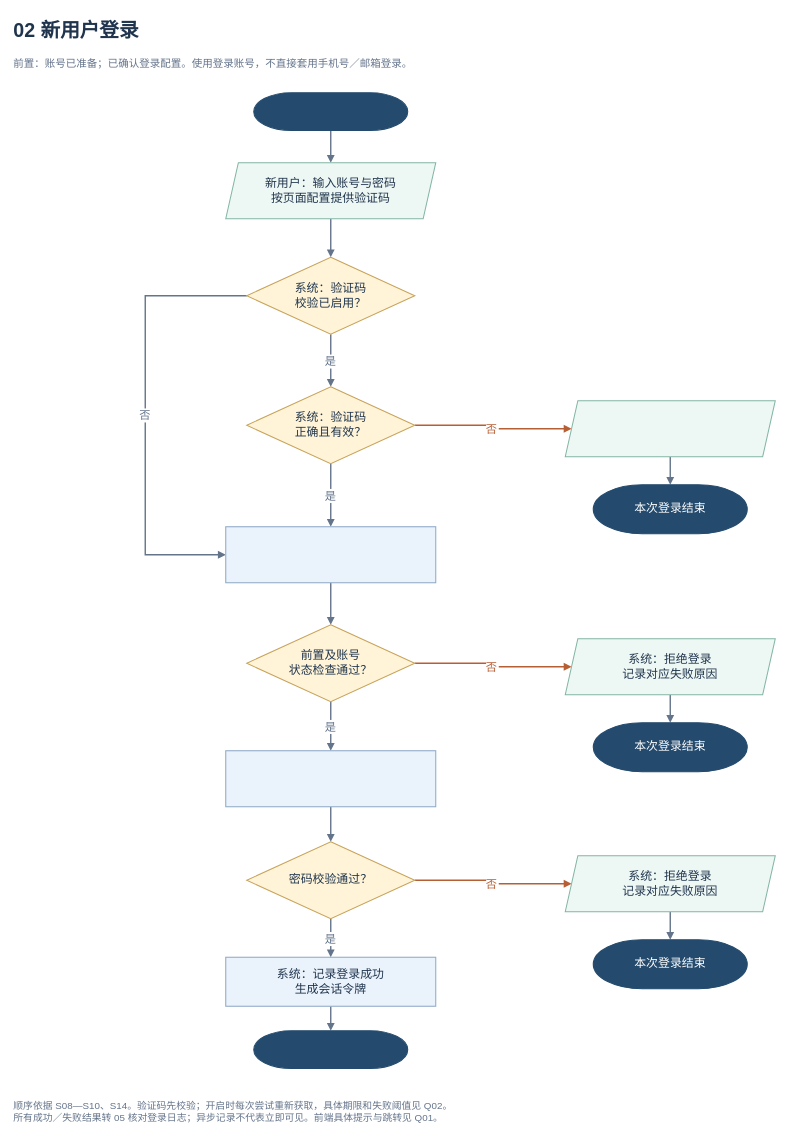
Some shapes in this 801 by 1148 pixel diagram are drawn without their labels. Each missing label, with the centre of its shape:
"开始" belongs at pixel 330 111.
"登录成功，转 03" belongs at pixel 330 1049.
"系统：拒绝登录 记录验证码失败" belongs at pixel 669 428.
"系统：校验输入及访问限制 按账号查用户、检查状态" belongs at pixel 330 554.
"系统：检查失败次数限制 并验证当前账号密码" belongs at pixel 330 778.
